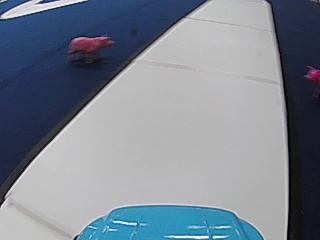pig: (67, 30, 114, 66)
